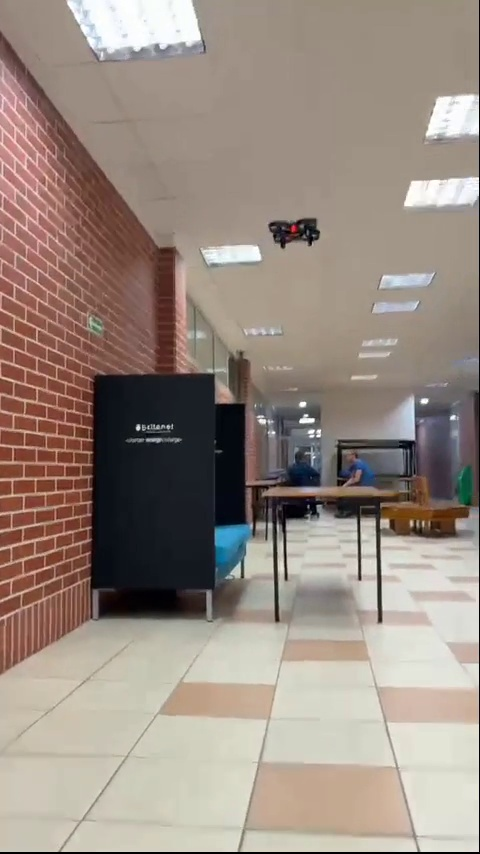drone: (267, 217, 319, 248)
no vest: (279, 448, 325, 487), (333, 449, 376, 484)
